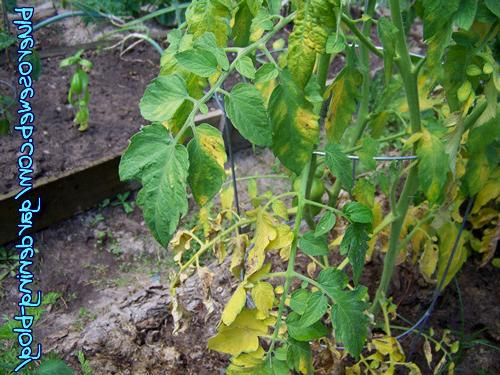Tomato leaf yellow virus: (117, 121, 195, 255), (256, 64, 319, 185), (310, 261, 378, 360), (181, 117, 240, 203), (410, 122, 448, 211), (141, 72, 193, 120)
